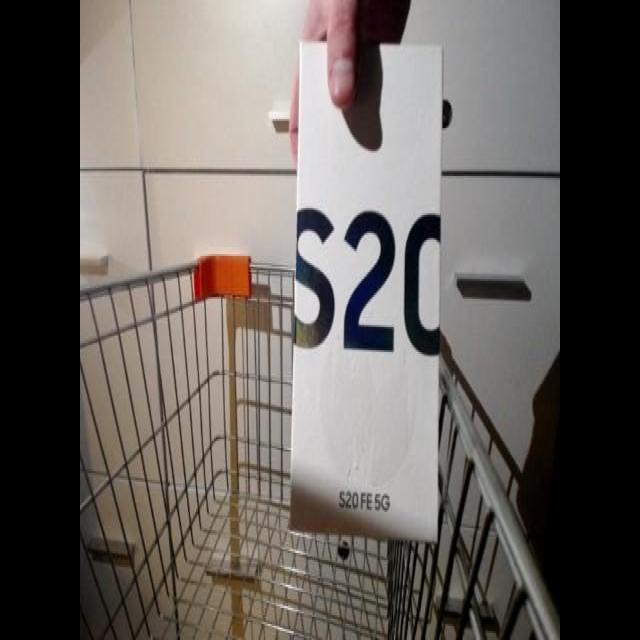Samsung S20: (284, 36, 450, 550)
